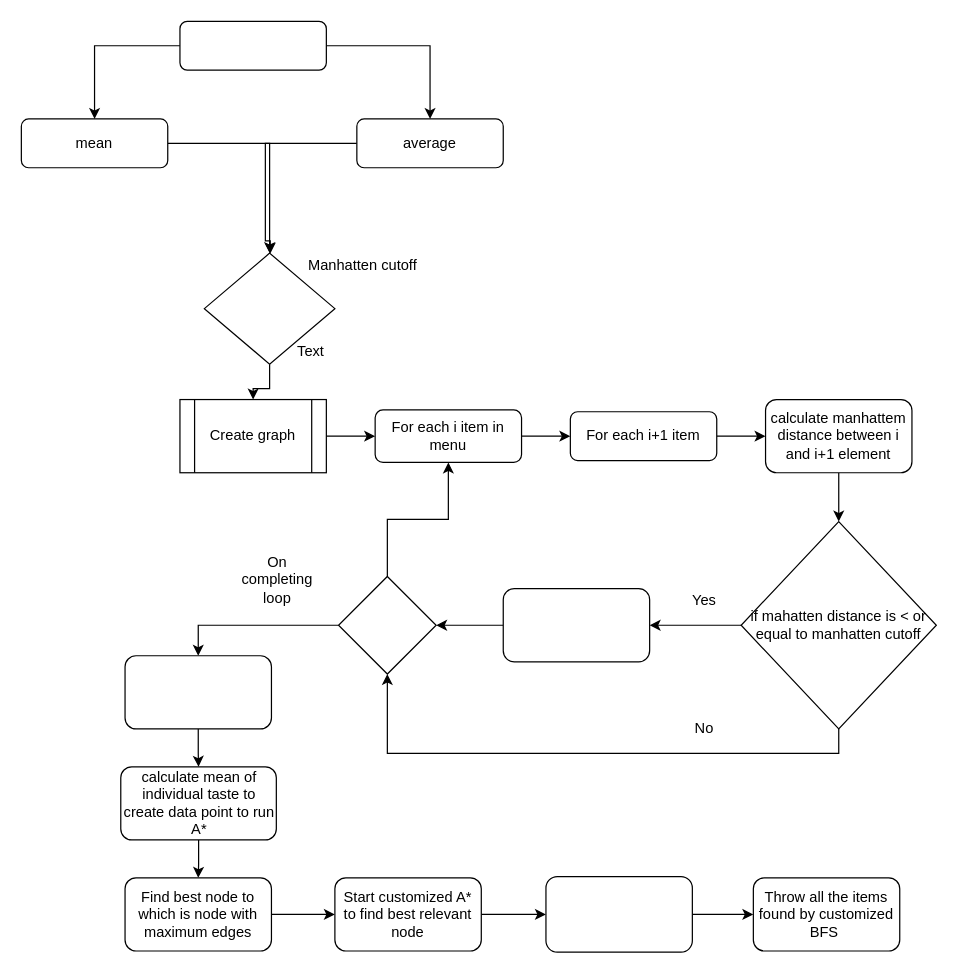
Some shapes in this 958 by 974 pixel diagram are drawn without their labels. Each missing label, with the box of its shape:
Connect i and i+1 node: (502, 587, 650, 662)
increment i: (337, 575, 436, 674)
Menu of all items: (179, 20, 326, 70)
small of two: (203, 252, 335, 364)
start customized BFS from the node found by customized A*: (545, 875, 692, 952)
Take all user previous orders dataset: (124, 655, 271, 729)
